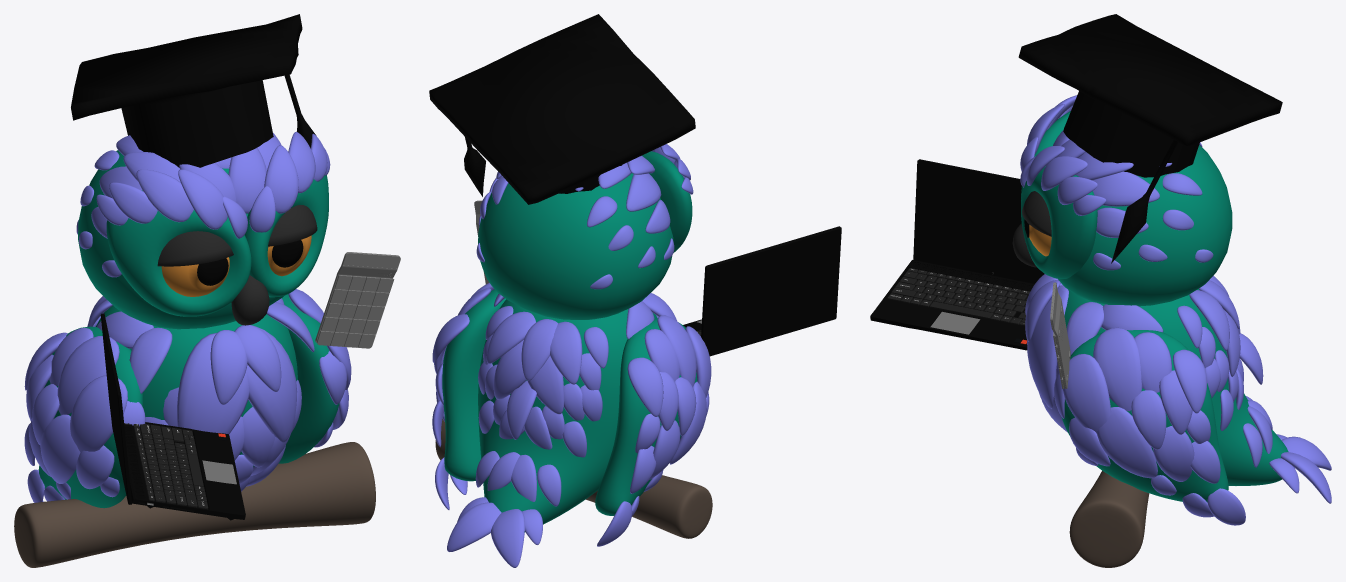
Rendered from eng_3.fbx.
3 views of the same model, side by side, from view 1: azimuth 30°, elevation 25°; view 2: azimuth 150°, elevation 25°; view 3: azimuth 270°, elevation 25° (orthographic). The views are drawn at different scales.
Visible parts, largest first — view 1: Retop_bobr, Cylinder, Circle, Plane.019, Plane, Cube.002, Cube.001, calc.001_low, Plane.029, Cube, Sphere.001, Plane.003 (+29 smaller); view 2: Retop_bobr, Cube.001, Cube.012, Plane, Cube, Cylinder, Plane.050, Plane.046, Plane.047, Plane.033, Circle, Plane.049 (+26 smaller); view 3: Retop_bobr, Cube.001, Cube.012, Cylinder, Cube, Cube.002, Circle, Plane, Plane.031, Plane.030, Plane.036, Plane.019 (+33 smaller).
Boxes of the visible parts, left/top/right/bottom form: Retop_bobr: left=71, top=14, right=316, bottom=167; Cylinder: left=14, top=442, right=375, bottom=567; Circle: left=106, top=175, right=328, bottom=316; Plane.019: left=177, top=326, right=297, bottom=442; Plane: left=38, top=294, right=339, bottom=508; Cube.002: left=124, top=422, right=245, bottom=520; Cube.001: left=78, top=150, right=283, bottom=329; calc.001_low: left=317, top=275, right=394, bottom=348; Plane.029: left=210, top=325, right=281, bottom=404; Cube: left=96, top=305, right=297, bottom=467; Sphere.001: left=157, top=205, right=317, bottom=266; Plane.003: left=178, top=145, right=298, bottom=229; Retop_bobr: left=429, top=14, right=695, bottom=204; Cube.001: left=478, top=173, right=673, bottom=319; Cube.012: left=701, top=226, right=841, bottom=356; Plane: left=442, top=289, right=697, bottom=515; Cube: left=478, top=299, right=657, bottom=532; Cylinder: left=435, top=419, right=712, bottom=538; Plane.050: left=447, top=502, right=524, bottom=567; Plane.046: left=486, top=311, right=582, bottom=384; Plane.047: left=493, top=339, right=564, bottom=414; Plane.033: left=432, top=314, right=663, bottom=416; Circle: left=642, top=151, right=692, bottom=252; Plane.049: left=487, top=452, right=536, bottom=501; Retop_bobr: left=1018, top=14, right=1282, bottom=263; Cube.001: left=1058, top=145, right=1232, bottom=306; Cube.012: left=913, top=159, right=1044, bottom=283; Cylinder: left=1069, top=471, right=1149, bottom=567; Cube: left=1064, top=289, right=1288, bottom=485; Cube.002: left=870, top=260, right=1034, bottom=350; Circle: left=1021, top=111, right=1097, bottom=278; Plane: left=1061, top=330, right=1228, bottom=502; Plane.031: left=1093, top=327, right=1142, bottom=411; Plane.030: left=1062, top=354, right=1111, bottom=433; Plane.036: left=1097, top=407, right=1157, bottom=478; Plane.019: left=1027, top=280, right=1068, bottom=408.
Bounding box in the file's own units: 444 × 621 × 553.
